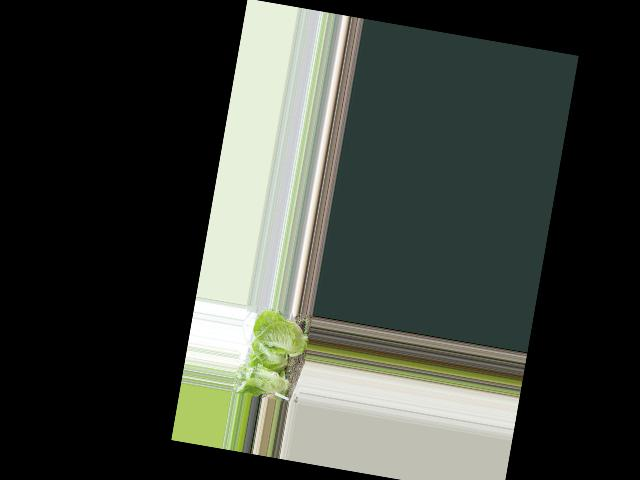lettuce: (237, 360, 298, 399)
